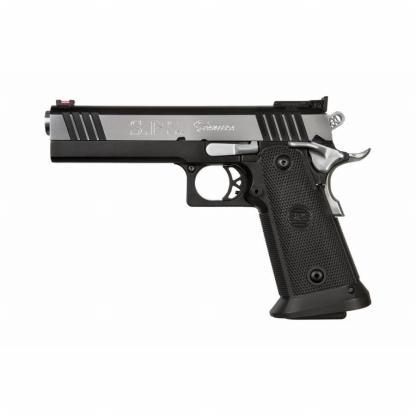Pistol: (39, 95, 374, 323)
